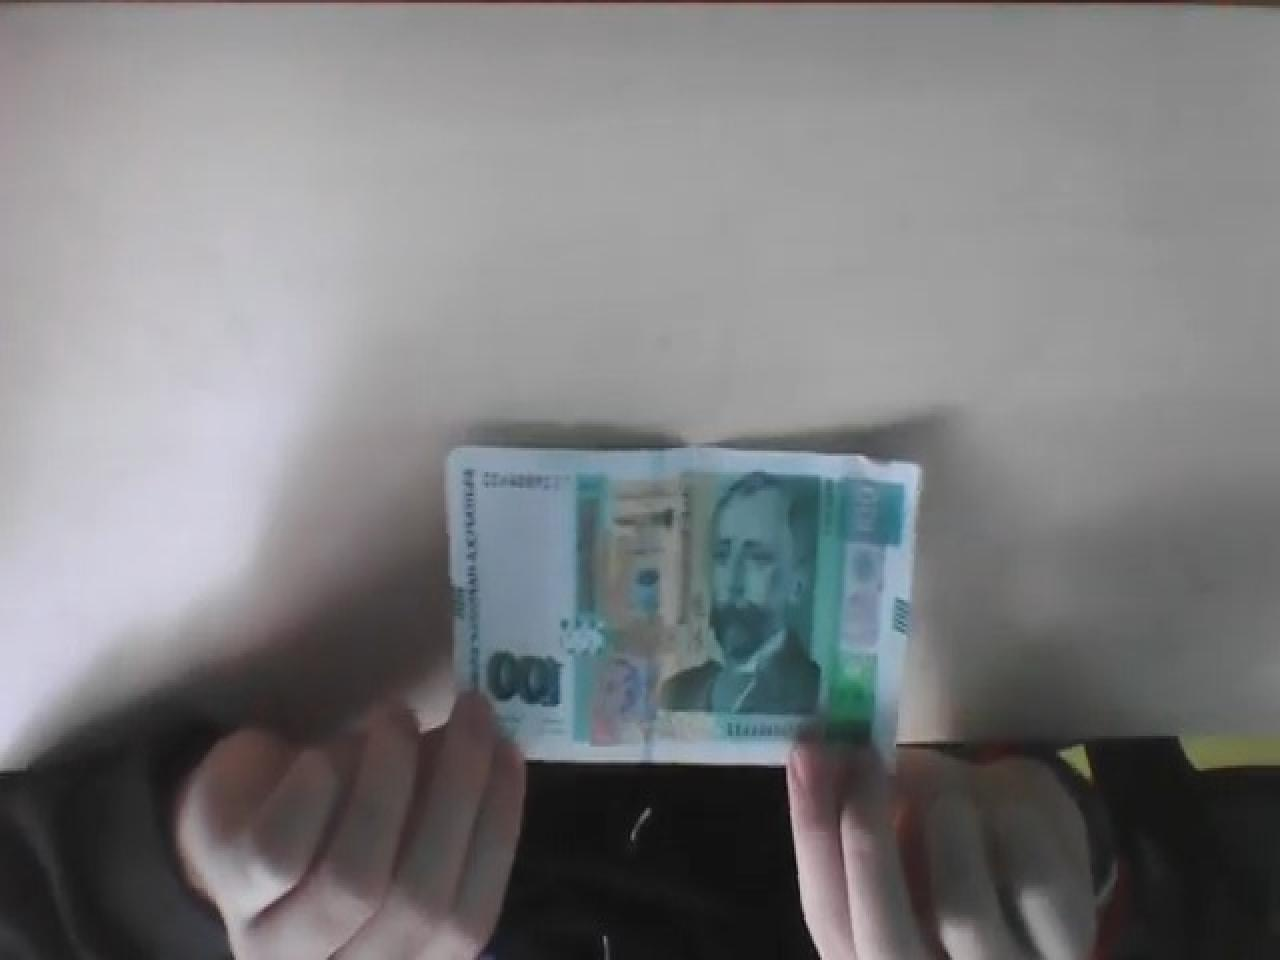100leva: (450, 440, 922, 765)
